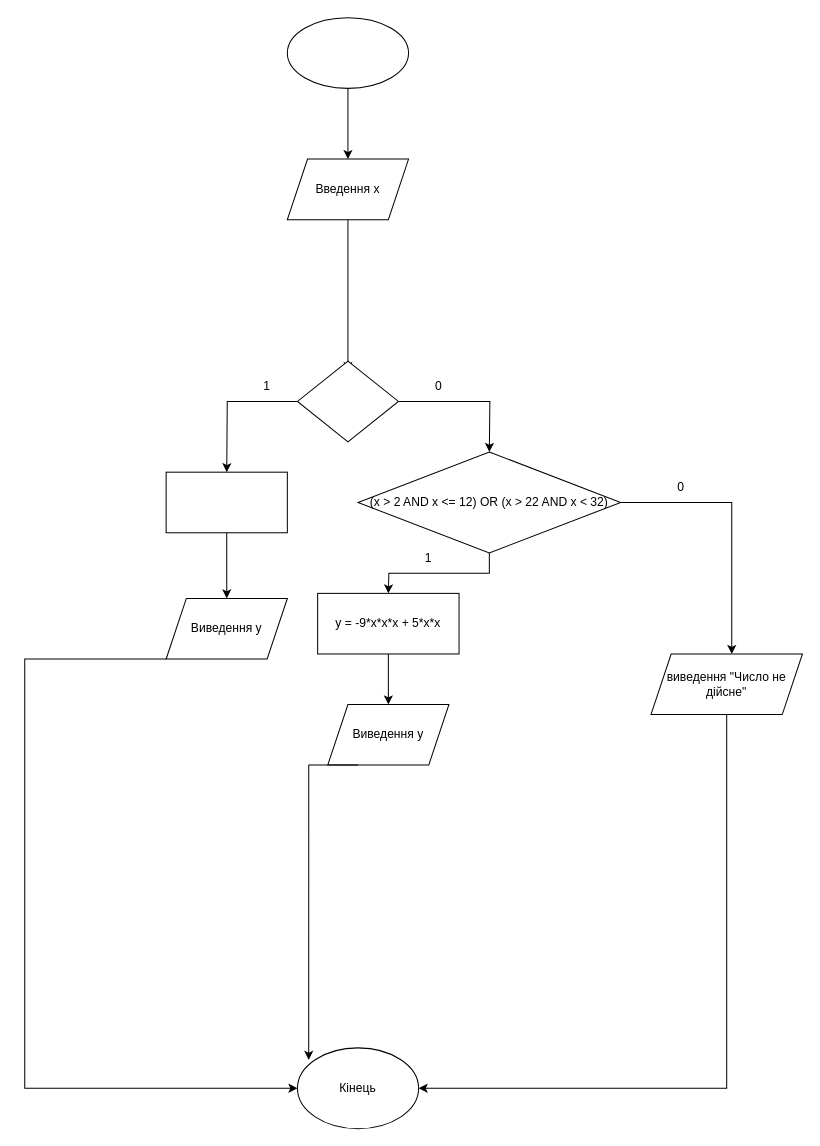
The diagram is 820 pixels wide and 1146 high, and some of its shapes have lost their labels. The shapes that lost their labels are listed below. From the top down, each one's centre as x and y in pixels, then its label:
the point at 347,52: Початок
the point at 347,401: x<=0
the point at 226,502: y = -x * x - 12
